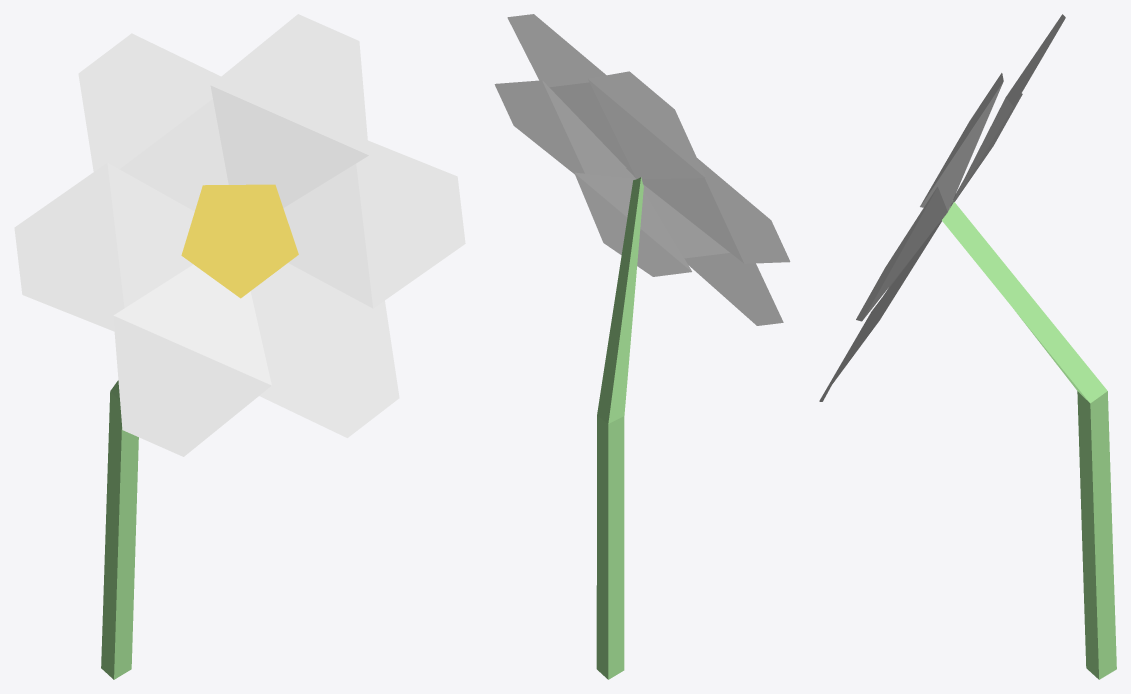
File: Flower_e_TwoS_05.fbx
3 views of the same model, side by side, from view 1: azimuth 30°, elevation 25°; view 2: azimuth 150°, elevation 25°; view 3: azimuth 270°, elevation 25° (orthographic). The views are drawn at different scales.
Visible parts, largest first — view 1: Flower_e_TwoS_05; view 2: Flower_e_TwoS_05; view 3: Flower_e_TwoS_05.
Part boxes in pixels (x1=…): Flower_e_TwoS_05: x1=14, y1=14, x2=465, y2=679; Flower_e_TwoS_05: x1=494, y1=14, x2=790, y2=679; Flower_e_TwoS_05: x1=819, y1=14, x2=1116, y2=679.
Size of the model in its own units: 19.93 by 33.03 by 13.4.
